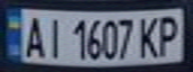0: (103, 16, 121, 61)
1: (66, 15, 87, 60)
6: (84, 16, 103, 61)
7: (115, 15, 139, 60)
A: (18, 12, 48, 60)
I: (42, 13, 66, 60)
K: (136, 14, 163, 58)
P: (154, 12, 187, 57)
